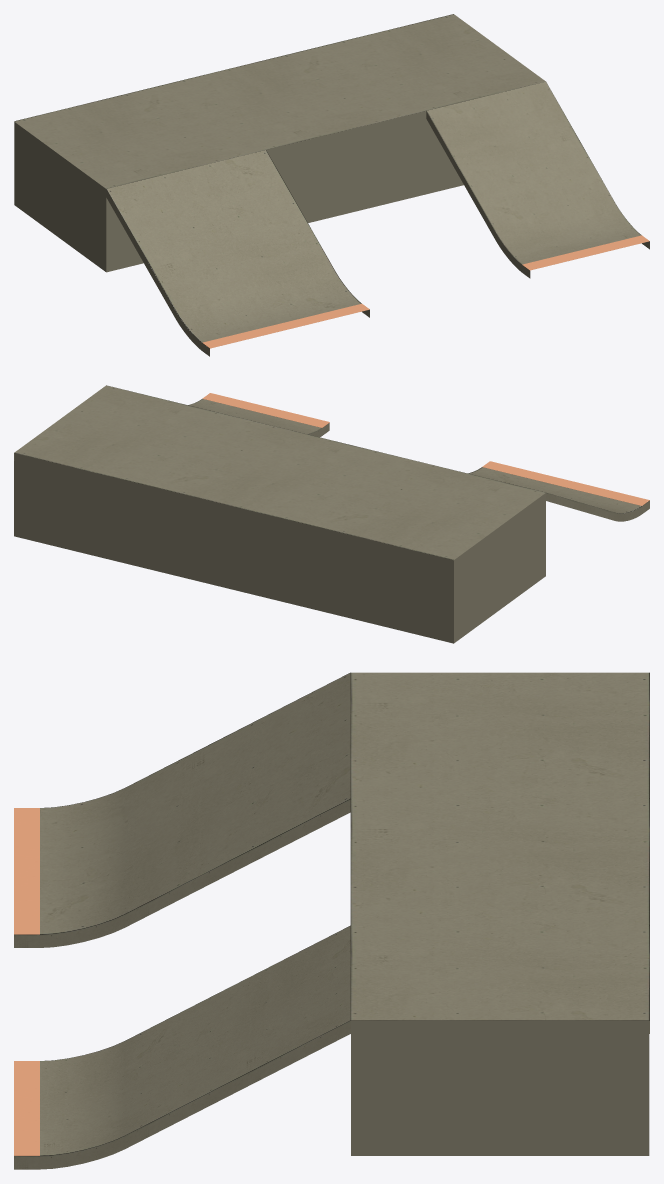
Rendered from banks-gap.glb.
3 renders of one model, top to bottom at view 1: azimuth 30°, elevation 25°; view 2: azimuth 150°, elevation 25°; view 3: azimuth 270°, elevation 25°, orthographic. The views are drawn at different scales.
Visible parts, largest first — view 1: BanksGapWood, BanksGapMetal; view 2: BanksGapWood, BanksGapMetal; view 3: BanksGapWood, BanksGapMetal.
Boxes of the visible parts, <box> form: BanksGapWood: <box>14,14,649,356</box>; BanksGapMetal: <box>202,235,649,348</box>; BanksGapWood: <box>14,385,649,643</box>; BanksGapMetal: <box>202,393,649,505</box>; BanksGapWood: <box>14,672,649,1169</box>; BanksGapMetal: <box>14,808,39,1155</box>.
Size of the model in its own units: 108 by 21.55 by 83.26.
2 materials, 2 textured.
